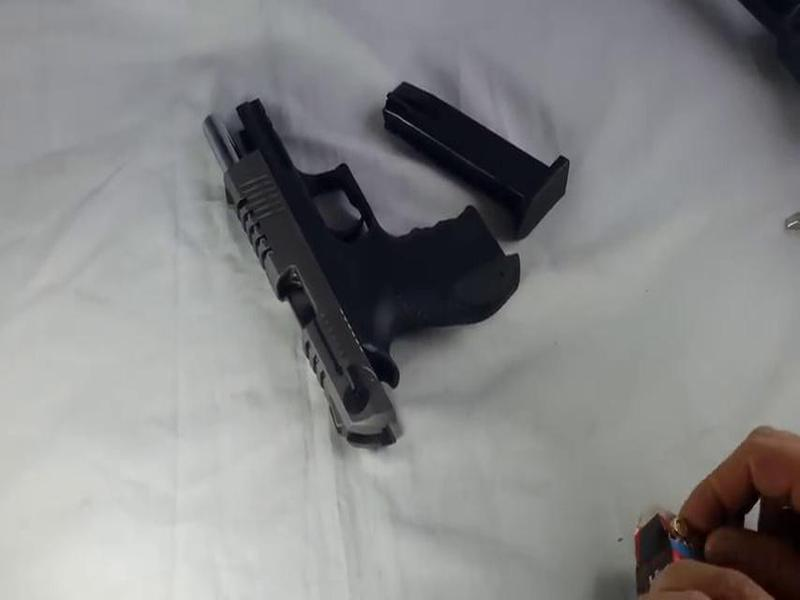Pistola: (191, 94, 528, 453)
